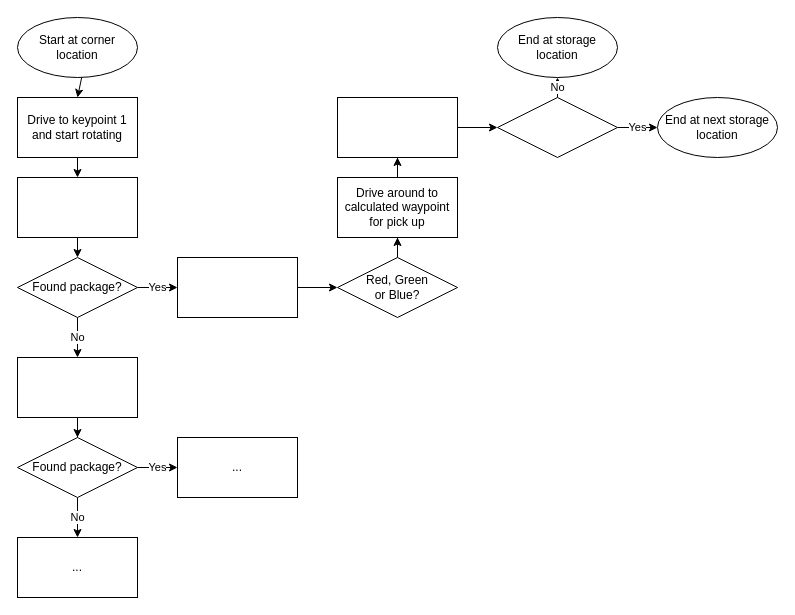
Image size: 795x615. Some labels were removed from this diagram. The shapes that lost their labels are listed below. From the top down, each one's centre as x and y in pixels, then its label:
At point 397,127: "Pick up package and drive to waypoint of corresponding storage".
At point 557,127: "Detect beacon?".
At point 77,207: "Scan area with ultrasonic sensor".
At point 237,287: "Drive forward and scan colour".
At point 77,387: "Drive to keypoint 2 and start rotating".
